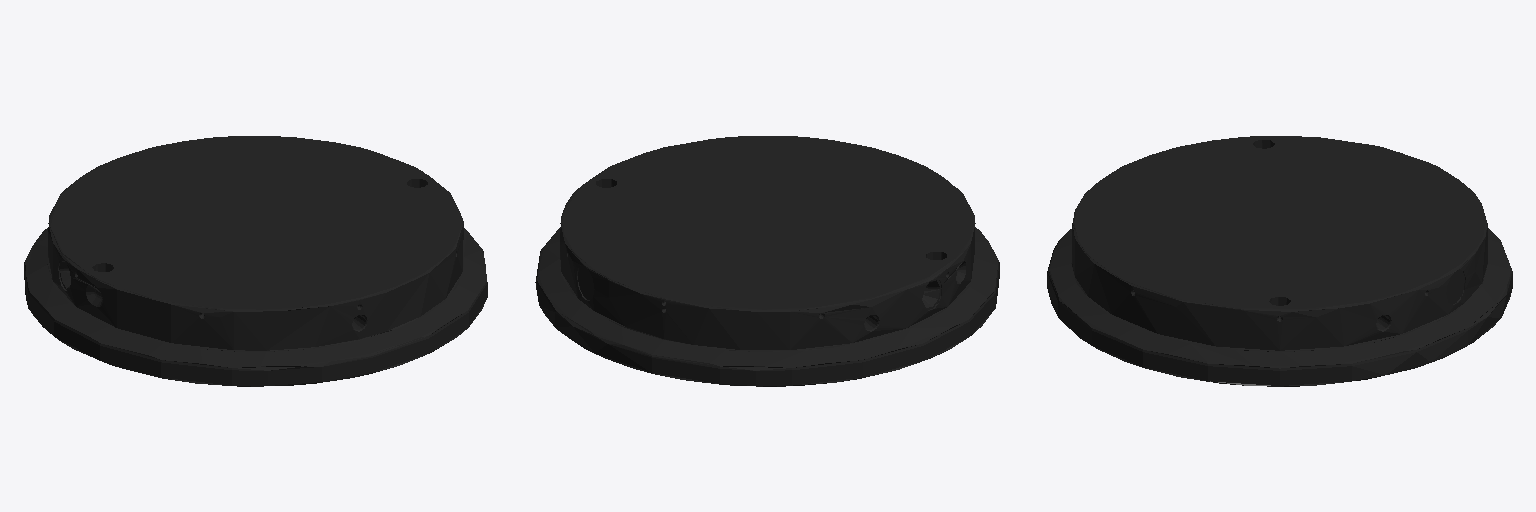
File: irb760_450_318_link6_cad_00_body1.obj
3 renders of one model, left to right at view 1: azimuth 30°, elevation 25°; view 2: azimuth 150°, elevation 25°; view 3: azimuth 270°, elevation 25°, orthographic.
Parts seen in each view (by area): view 1: 0; view 2: 0; view 3: 0.
Part boxes in pixels (bbox=[...]): 0: bbox=[24, 136, 487, 386]; 0: bbox=[535, 136, 999, 386]; 0: bbox=[1047, 136, 1512, 386].
Bounding box in the file's own units: 250 × 39.5 × 250.